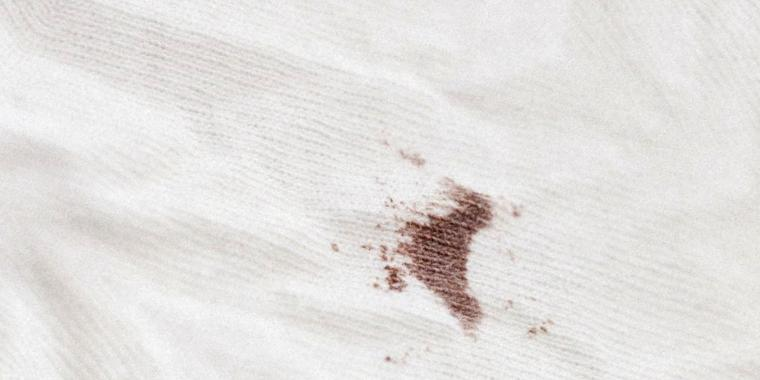stain: (375, 177, 501, 340)
